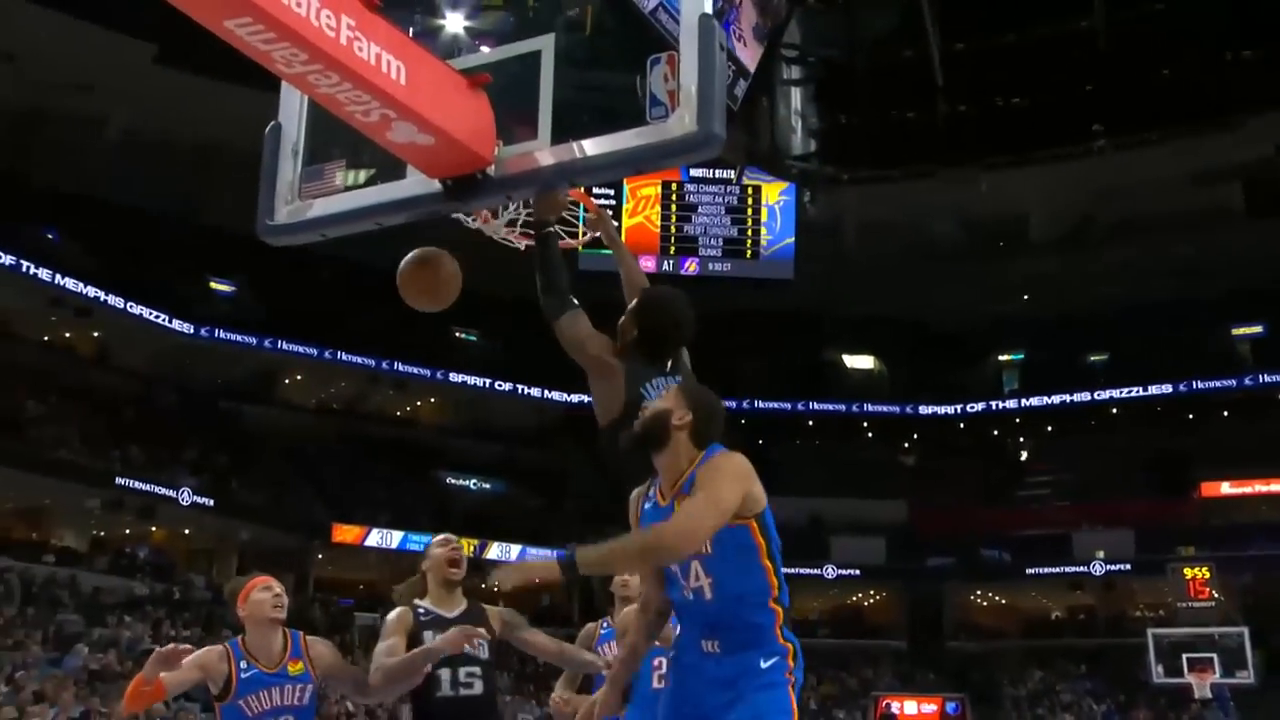ball: (385, 243, 476, 323)
net: (446, 163, 610, 255)
